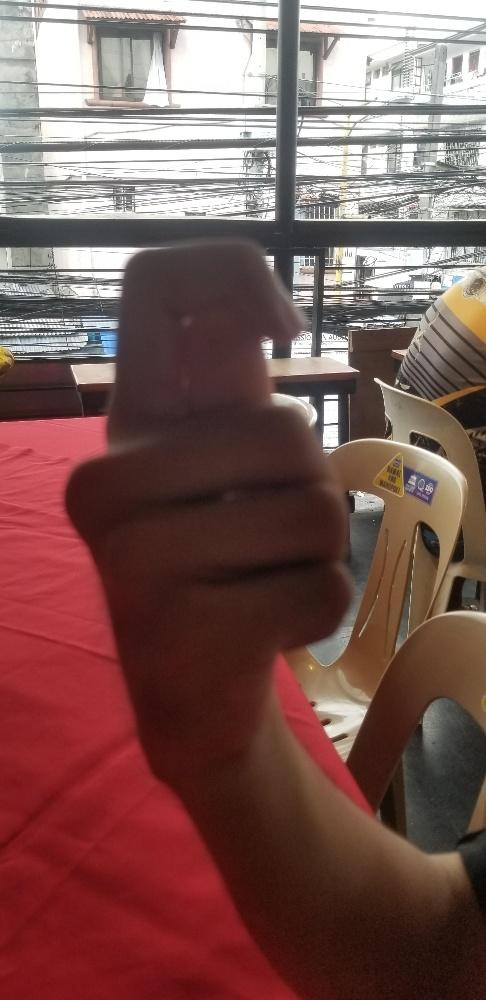t: (61, 229, 357, 773)
